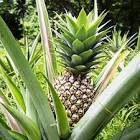Pineapple: (49, 9, 104, 130)
